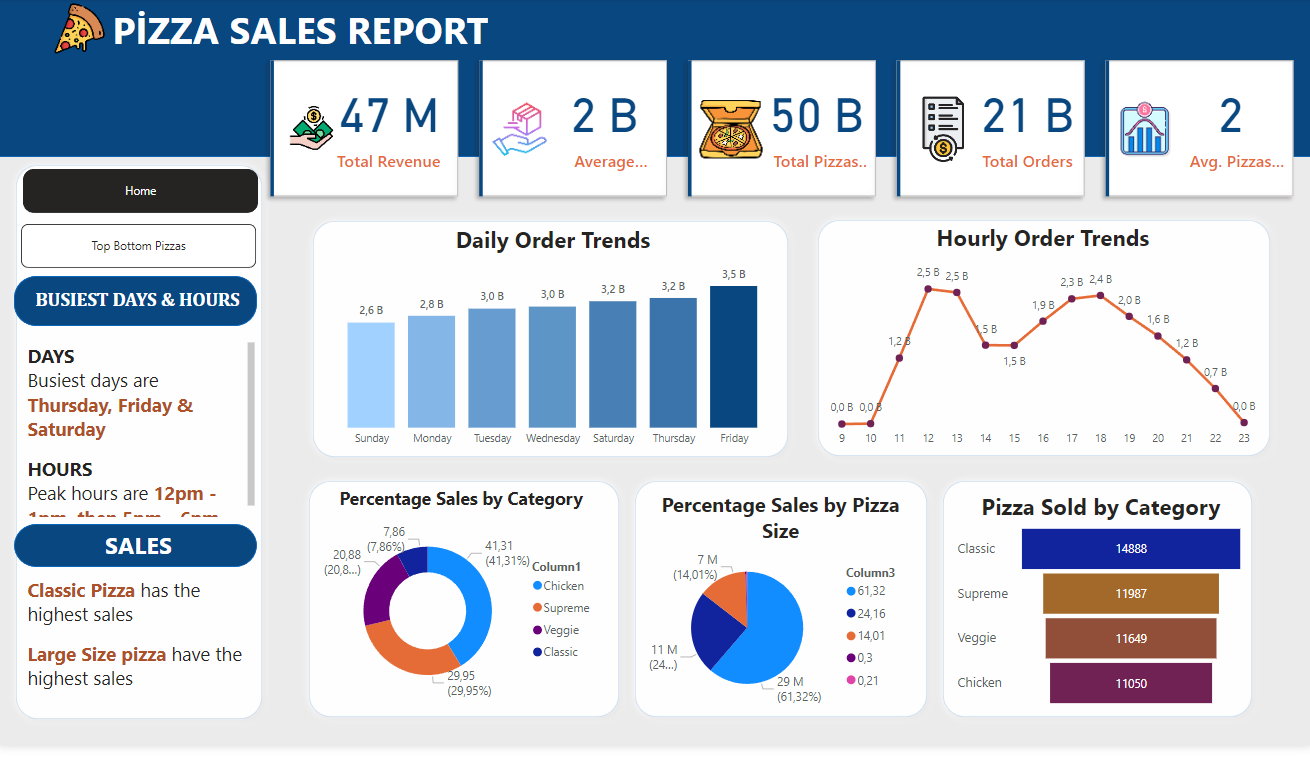

The dashboard page shown, as its layout file describes it:
{"tool":"powerbi","page":{"name":"Home","canvas":[1500,850],"ordinal":0},"visuals":[{"type":"shape","box":[0,0,1500,180.1],"z":0},{"type":"cardVisual","fields":{"Data":["Sum(1-kpi-total-revenue.Column1)","Sum(2-kpi-avg order value.Column1)","Sum(3-kpi total pizzas sold.Column1)","Sum(4-kpi total orders.Column1)","Sum(5-kpi average pizzas per older.Column1)"]},"box":[298.6,57,1196.8,181.2],"z":1000},{"type":"shape","box":[351.1,243.9,559.7,287.2],"z":2000},{"type":"shape","box":[926.7,242.8,533.4,287.2],"z":3000},{"type":"shape","box":[346.5,540.3,371.6,287.2],"z":4000},{"type":"shape","box":[718.1,540.3,351.1,287.2],"z":5000},{"type":"shape","box":[1069.1,540.3,370.4,287.2],"z":6000},{"type":"textbox","box":[67.2,0,557.4,76.4],"z":7000},{"type":"image","box":[54.7,0,78.6,67.2],"z":8000},{"type":"columnChart","title":"Daily Order Trends","fields":{"Y":["Sum(question 1 - total orders.Column2)"],"Category":["question 1 - total orders.Column1"]},"box":[367,256.5,533.4,262.2],"z":9000},{"type":"lineChart","title":"Hourly Order Trends","fields":{"Category":["question 2 - hourly trends.Column1"],"Y":["Sum(question 2 - hourly trends.Column2)"]},"box":[944.9,254.2,494.7,264.4],"z":10000},{"type":"donutChart","title":"Percentage Sales by Category","fields":{"Category":["question 3 - percentage sales.Column1"],"Y":["Sum(question 3 - percentage sales.Column3)"]},"box":[367,555.1,323.7,257.6],"z":11000},{"type":"pieChart","title":"Percentage Sales by Pizza Size","fields":{"Y":["Sum(question 4 - percentage sales size.Column2)"],"Category":["question 4 - percentage sales size.Column3"]},"box":[737.5,560.8,311.2,251.9],"z":12000},{"type":"funnel","title":"Pizza Sold by Category","fields":{"Y":["Sum(question 5 - quantity sold.Column2)"],"Category":["question 5 - quantity sold.Column1"]},"box":[1089.7,560.8,337.4,251.9],"z":13000},{"type":"shape","box":[12.5,180.1,298.6,649.7],"z":14000},{"type":"shape","box":[19.4,315.7,277,57],"z":15000},{"type":"textbox","box":[21.7,324.8,277,47.9],"z":16000},{"type":"textbox","box":[29.6,386.4,269,208.6],"z":17000},{"type":"shape","box":[19.4,598.4,277,49],"z":18000},{"type":"textbox","box":[54.7,598.4,213.1,54.7],"z":19000},{"type":"textbox","box":[29.6,653.1,261,159.6],"z":20000},{"type":"pageNavigator","box":[29.6,193.8,269,50.2],"z":21000},{"type":"pageNavigator","box":[27.4,256.5,269,50.2],"z":22000}]}

Visuals, with their boxes in screenshot pixels (x1, y1, x2, y2), scaled from the page's 1500x850 canvas onto the 1310x761 screenshot:
shape: rect(0, 0, 1309, 161)
cardVisual - Sum(1-kpi-total-revenue.Column1) x Sum(2-kpi-avg order value.Column1): rect(261, 51, 1306, 213)
shape: rect(307, 218, 795, 475)
shape: rect(809, 217, 1275, 475)
shape: rect(303, 484, 627, 741)
shape: rect(627, 484, 934, 741)
shape: rect(934, 484, 1257, 741)
textbox: rect(59, 0, 545, 68)
image: rect(48, 0, 116, 60)
"Daily Order Trends" columnChart: rect(321, 230, 786, 464)
"Hourly Order Trends" lineChart: rect(825, 228, 1257, 464)
"Percentage Sales by Category" donutChart: rect(321, 497, 603, 728)
"Percentage Sales by Pizza Size" pieChart: rect(644, 502, 916, 728)
"Pizza Sold by Category" funnel: rect(952, 502, 1246, 728)
shape: rect(11, 161, 272, 743)
shape: rect(17, 283, 259, 334)
textbox: rect(19, 291, 261, 334)
textbox: rect(26, 346, 261, 533)
shape: rect(17, 536, 259, 580)
textbox: rect(48, 536, 234, 585)
textbox: rect(26, 585, 254, 728)
pageNavigator: rect(26, 174, 261, 218)
pageNavigator: rect(24, 230, 259, 275)
